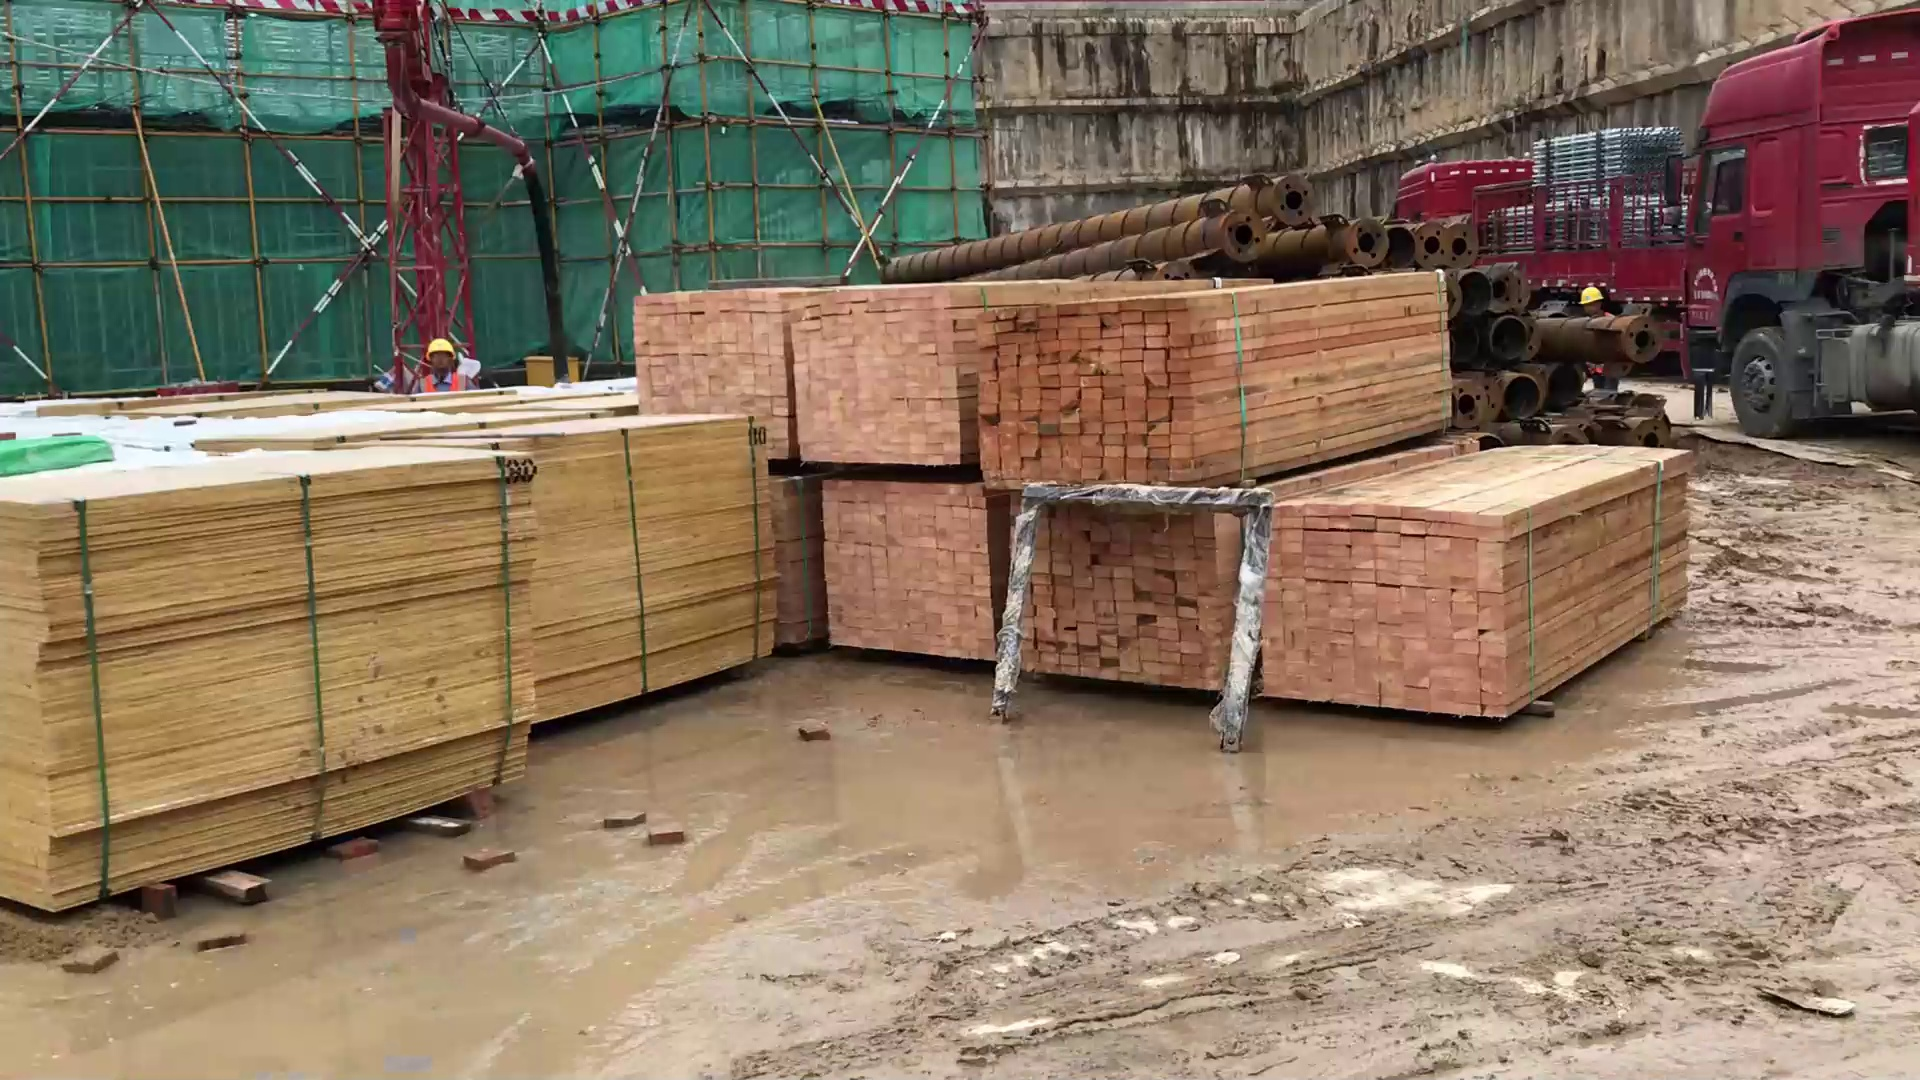board: (6, 459, 544, 850), (508, 415, 780, 739)
ebox: (524, 354, 579, 389)
helmet: (1578, 284, 1606, 305), (425, 338, 460, 354)
person: (395, 339, 495, 401)
scaffold: (1526, 125, 1682, 196)
vest: (418, 372, 470, 392)
wood: (1258, 431, 1692, 727), (984, 263, 1448, 500), (1008, 505, 1245, 698), (784, 268, 991, 468), (814, 472, 996, 660), (611, 278, 795, 460)
